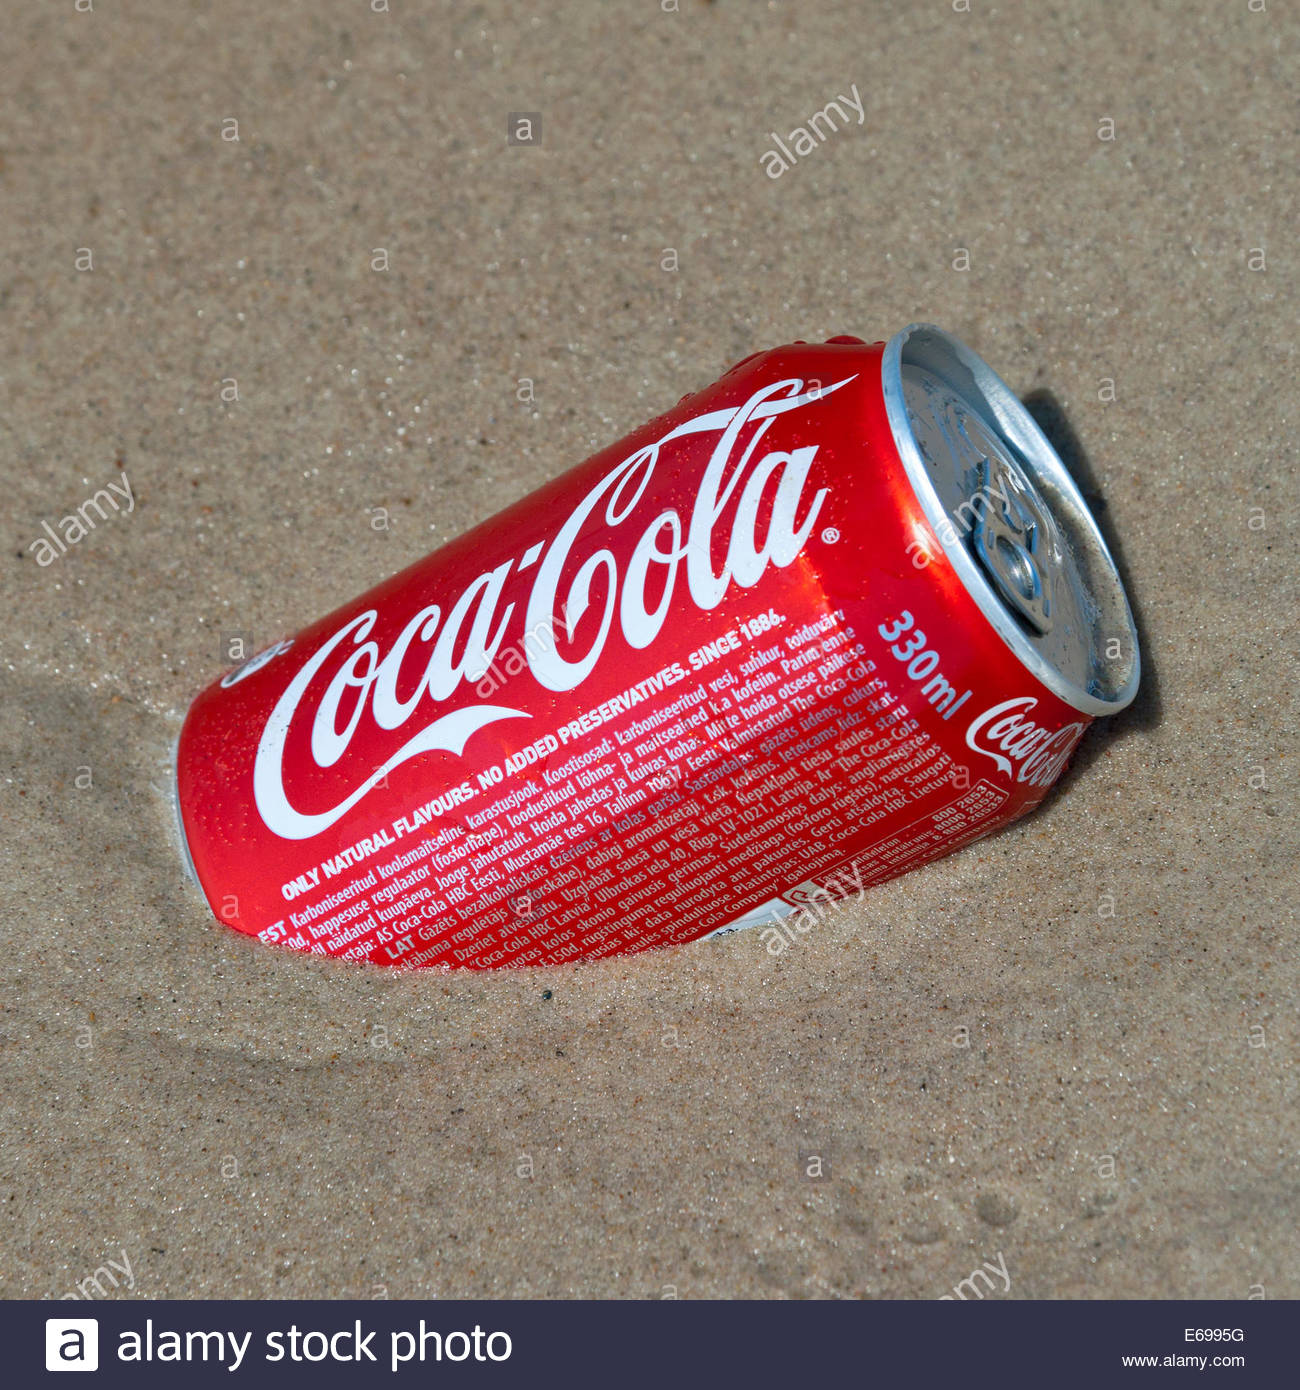coke: (159, 333, 1156, 967)
